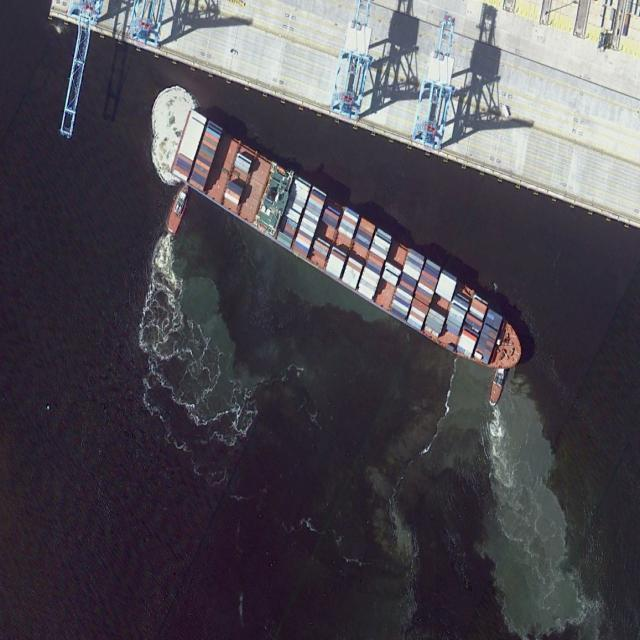Container Ship: (169, 108, 532, 391)
Hovercraft: (162, 180, 192, 238), (487, 366, 507, 407)
